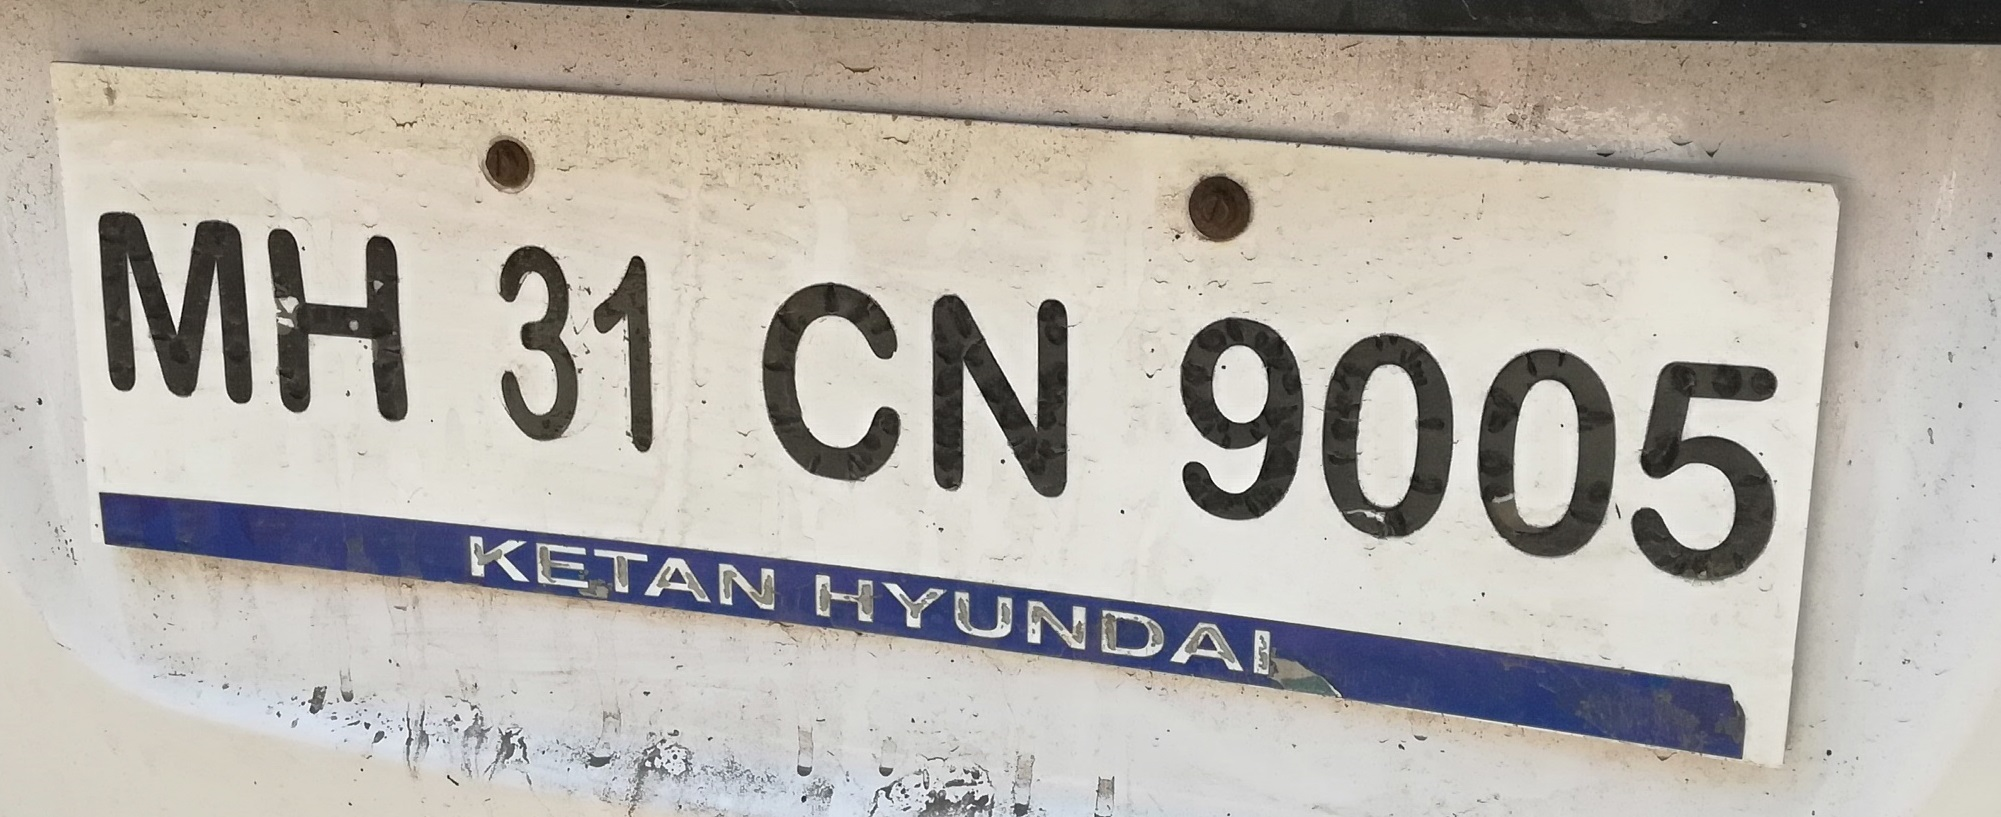numberplate: (43, 53, 1851, 788)
